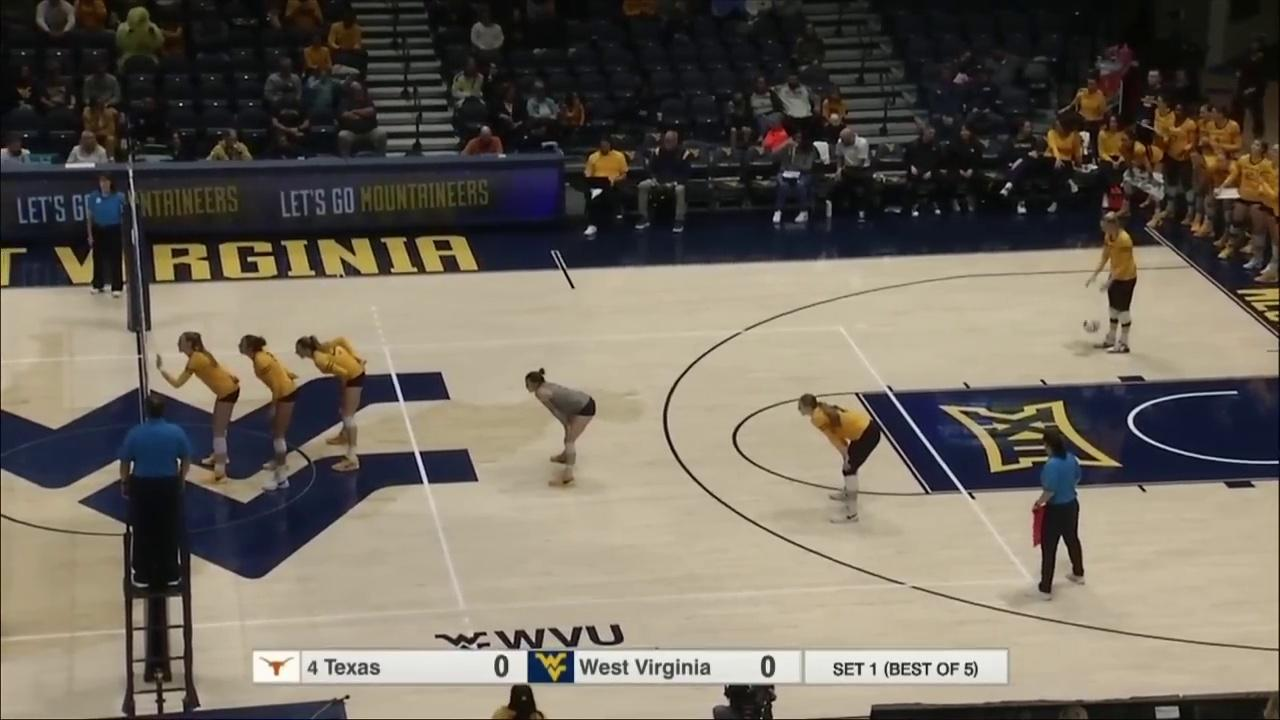player: (162, 331, 241, 482), (799, 390, 880, 528), (295, 332, 366, 476), (238, 335, 296, 492), (526, 370, 604, 486), (1083, 212, 1143, 352)
refree: (116, 395, 193, 590), (1029, 431, 1087, 598), (82, 172, 132, 298)
